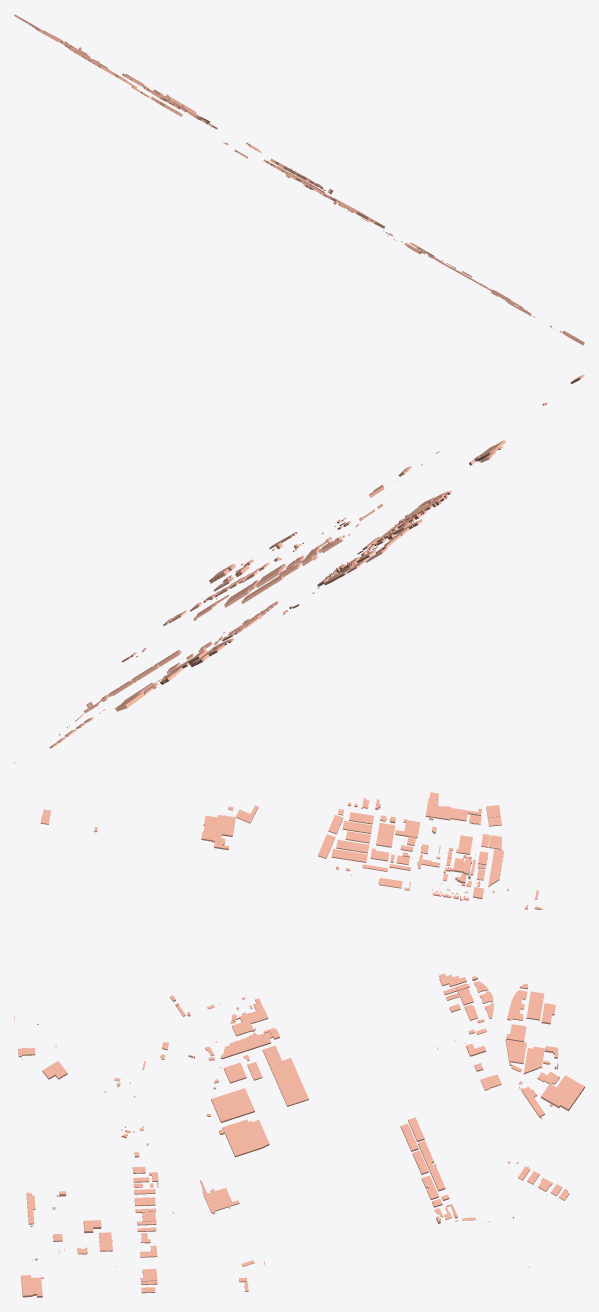
3 renders of one model, top to bottom at view 1: azimuth 30°, elevation 25°; view 2: azimuth 150°, elevation 25°; view 3: azimuth 270°, elevation 25°, orthographic. The views are drawn at different scales.
Bounding box in the file's own units: 2093 × 1497 × 2518.
